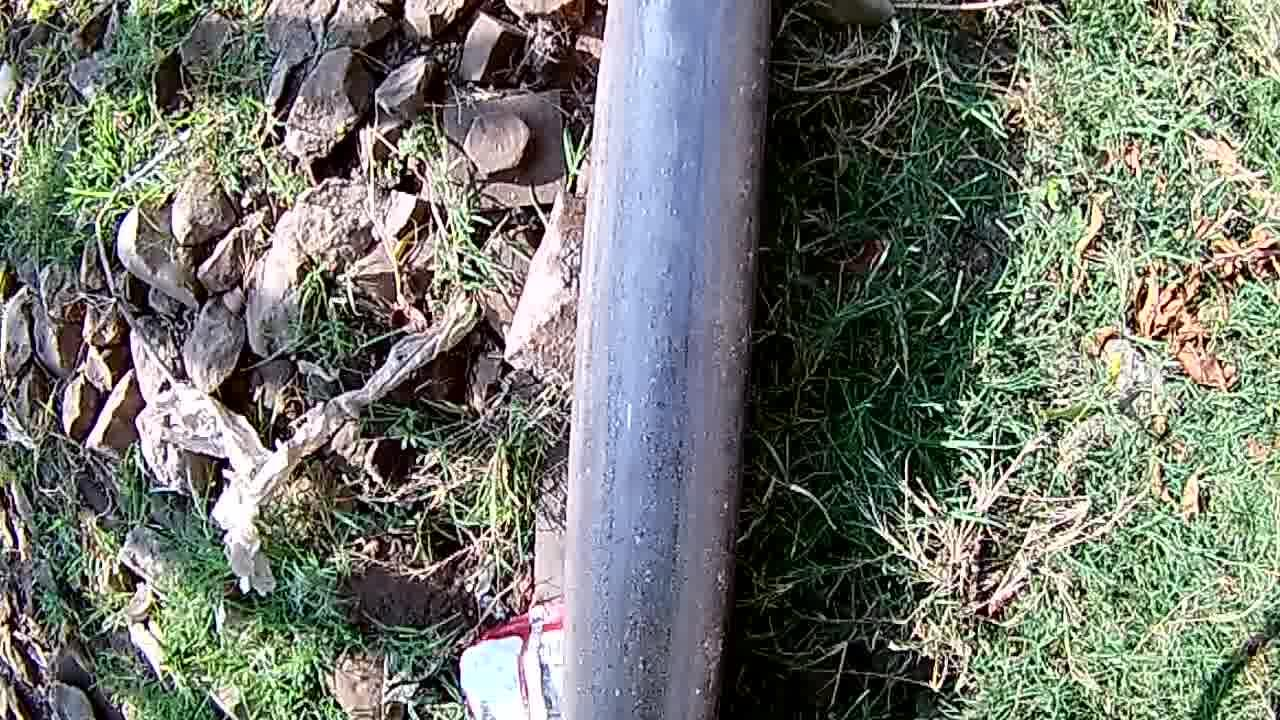bolt_missing: (584, 6, 756, 720)
